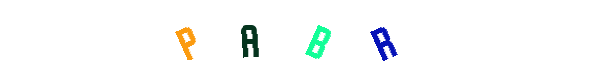A: (265, 0, 345, 80)
B: (277, 0, 357, 80)
P: (146, 0, 226, 80)
R: (278, 0, 358, 80)
